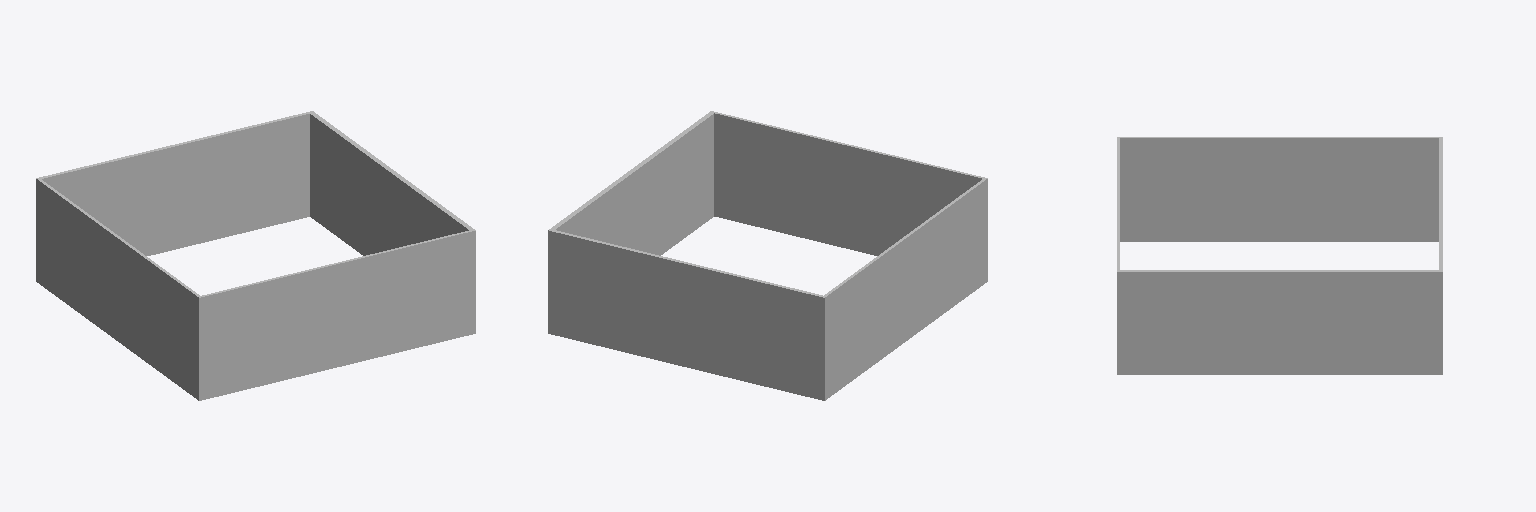
Rendered from wall.obj.
The picture shows the model from 3 angles: view 1: azimuth 30°, elevation 25°; view 2: azimuth 150°, elevation 25°; view 3: azimuth 270°, elevation 25°; orthographic projection.
Parts seen in each view (by area): view 1: pasted__pasted__pasted__pCube1 pasted__pasted__group pasted__gro; view 2: pasted__pasted__pasted__pCube1 pasted__pasted__group pasted__gro; view 3: pasted__pasted__pasted__pCube1 pasted__pasted__group pasted__gro.
Boxes of the visible parts, x1,y1,x2,y2 form: pasted__pasted__pasted__pCube1 pasted__pasted__group pasted__gro: [36, 111, 475, 400]; pasted__pasted__pasted__pCube1 pasted__pasted__group pasted__gro: [548, 111, 987, 400]; pasted__pasted__pasted__pCube1 pasted__pasted__group pasted__gro: [1117, 137, 1442, 374].
Size of the model in its own units: 159 by 56.86 by 163.